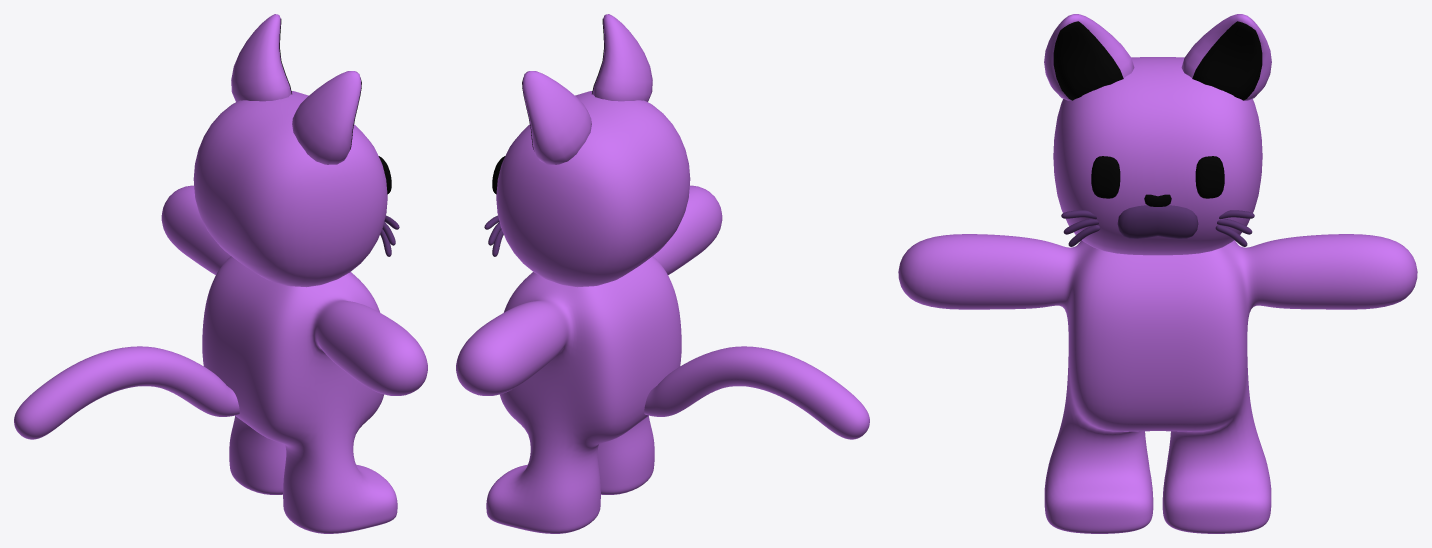
The model's file is GatoMorado.glb.
3 renders of one model, left to right at view 1: azimuth 30°, elevation 25°; view 2: azimuth 150°, elevation 25°; view 3: azimuth 270°, elevation 25°, orthographic. The views are drawn at different scales.
Parts seen in each view (by area): view 1: cuerpo, cabeza, Cube, orejas; view 2: cuerpo, cabeza, Cube, orejas; view 3: cuerpo, cabeza, orejas.001, orejas, boca, ojos.
Part boxes in pixels (x1=…): cuerpo: x1=161, y1=185, x2=427, y2=533; cabeza: x1=193, y1=91, x2=387, y2=287; Cube: x1=14, y1=346, x2=239, y2=439; orejas: x1=231, y1=14, x2=361, y2=164; cuerpo: x1=456, y1=185, x2=722, y2=533; cabeza: x1=496, y1=91, x2=690, y2=287; Cube: x1=644, y1=346, x2=869, y2=439; orejas: x1=522, y1=14, x2=652, y2=164; cuerpo: x1=898, y1=234, x2=1417, y2=533; cabeza: x1=1053, y1=57, x2=1262, y2=255; orejas.001: x1=1053, y1=21, x2=1262, y2=100; orejas: x1=1044, y1=14, x2=1271, y2=100; boca: x1=1117, y1=205, x2=1198, y2=238; ojos: x1=1091, y1=156, x2=1224, y2=198.
Size of the model in its own units: 3.12 by 3.84 by 3.61.
